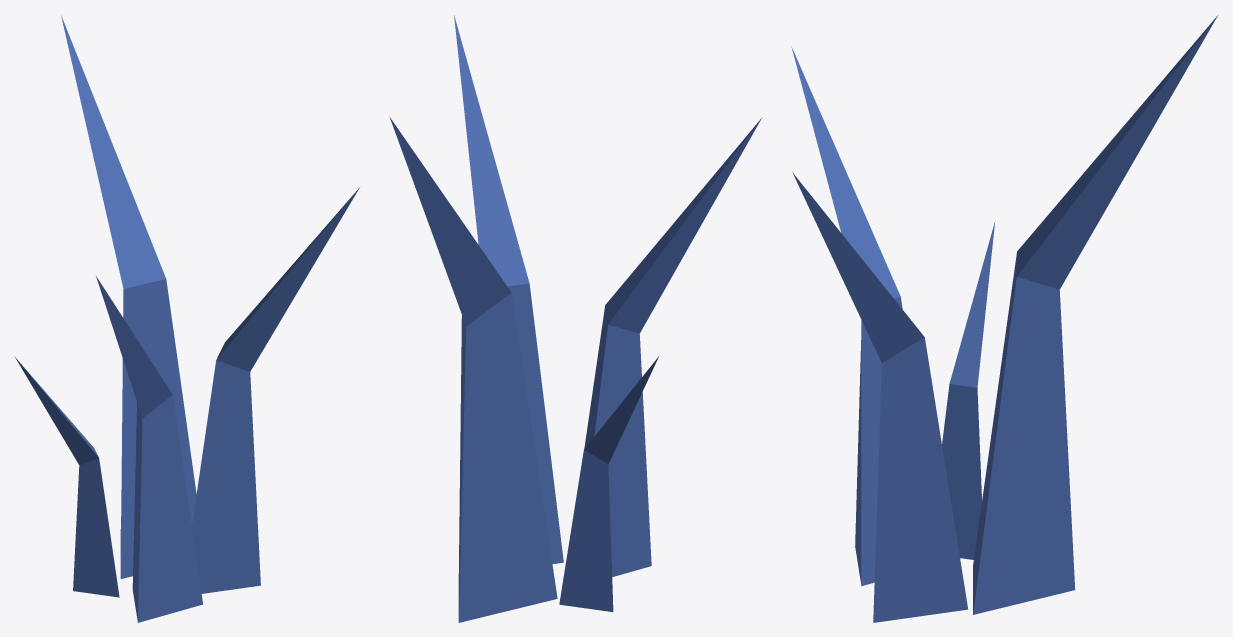
Rendered from Grass_1_Blue.fbx.
3 renders of one model, left to right at view 1: azimuth 30°, elevation 25°; view 2: azimuth 150°, elevation 25°; view 3: azimuth 270°, elevation 25°, orthographic. The views are drawn at different scales.
Visible parts, largest first — view 1: Grass_1_Blue; view 2: Grass_1_Blue; view 3: Grass_1_Blue.
Part boxes in pixels (box(x1,y1,x2,y2)): Grass_1_Blue: box(15, 15, 359, 622); Grass_1_Blue: box(389, 15, 761, 622); Grass_1_Blue: box(791, 15, 1217, 622).
Bounding box in the file's own units: 16.21 × 28.02 × 18.86.
